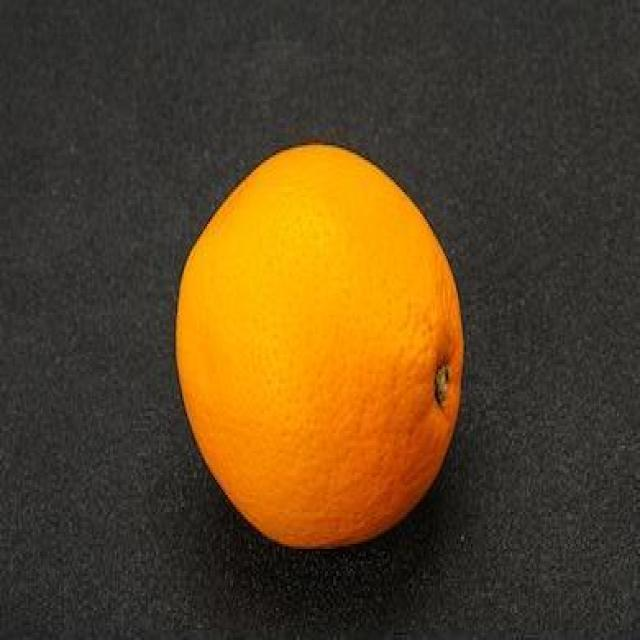orange: (175, 144, 464, 549)
